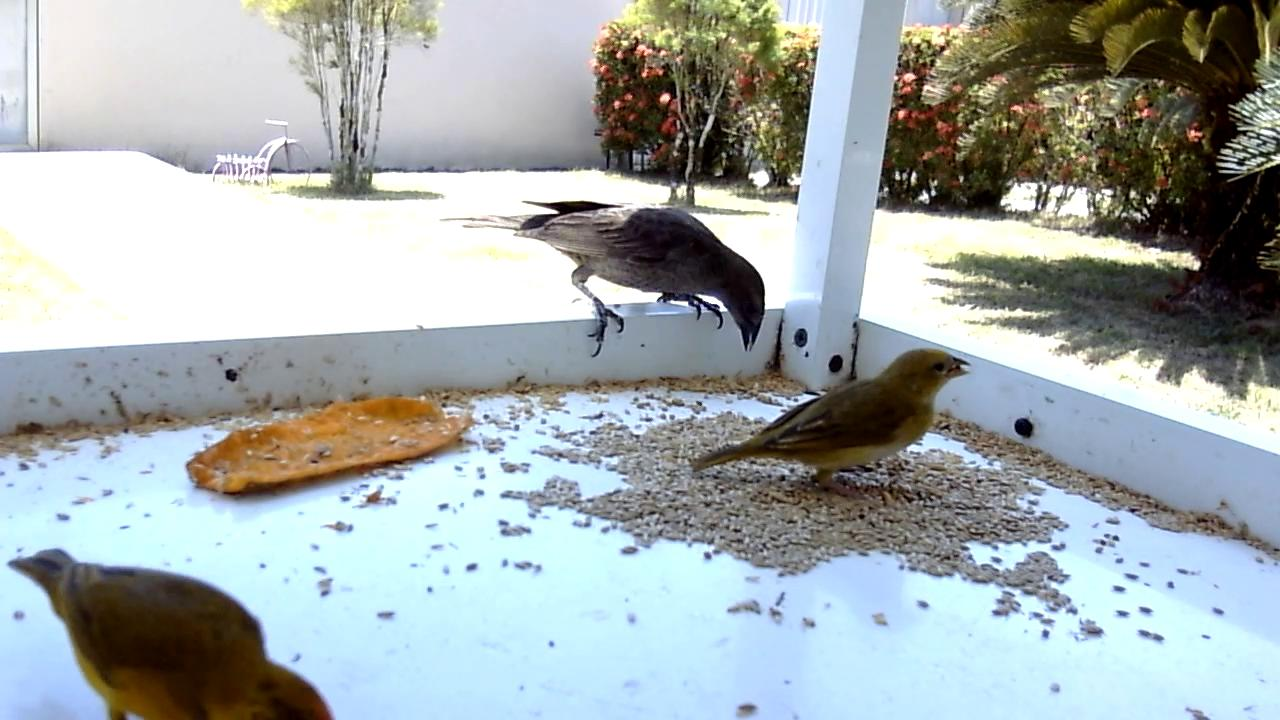canario_do_amazonas: (5, 545, 334, 720), (691, 346, 974, 496)
chupim: (438, 197, 770, 363)
